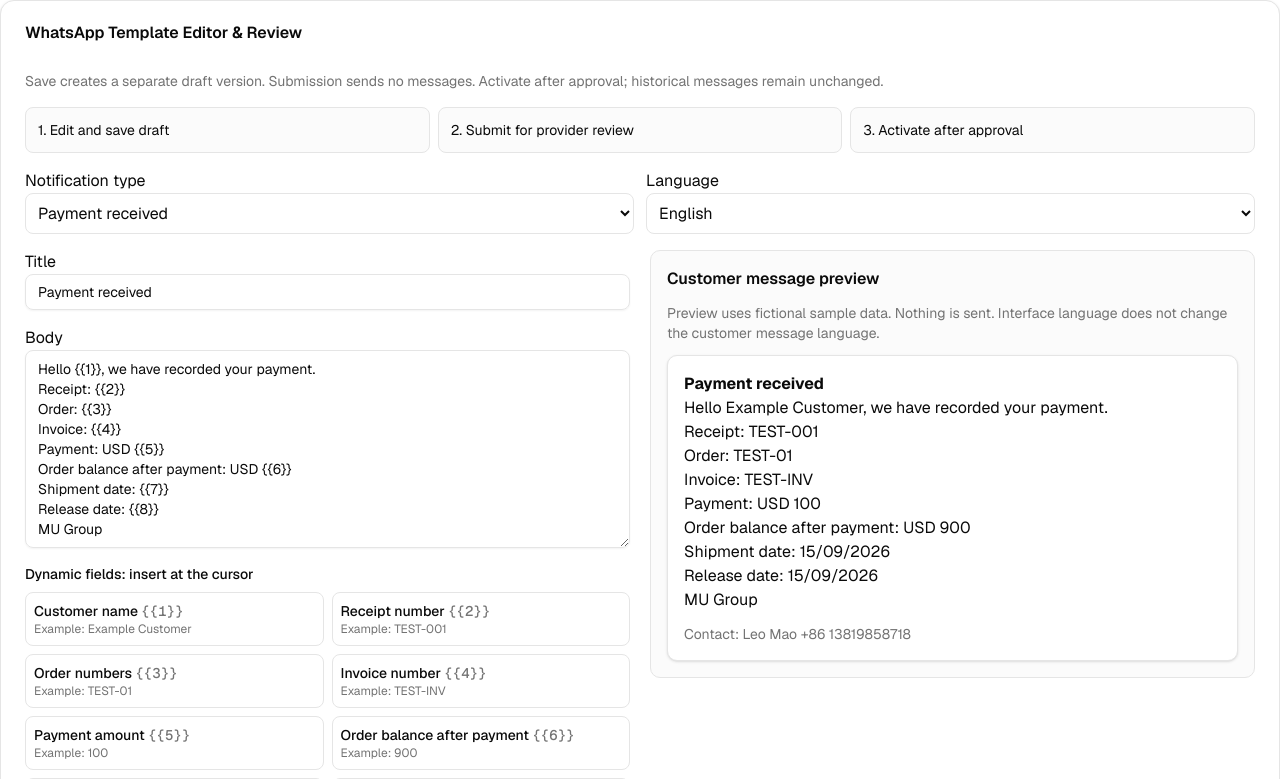
blocks a body missing required financial variables
Replace the text in the text box labelled "Body" with "No amount or balance". click: (328, 449)
box: x1=25 y1=350 x2=630 y2=548
(page scrolled)
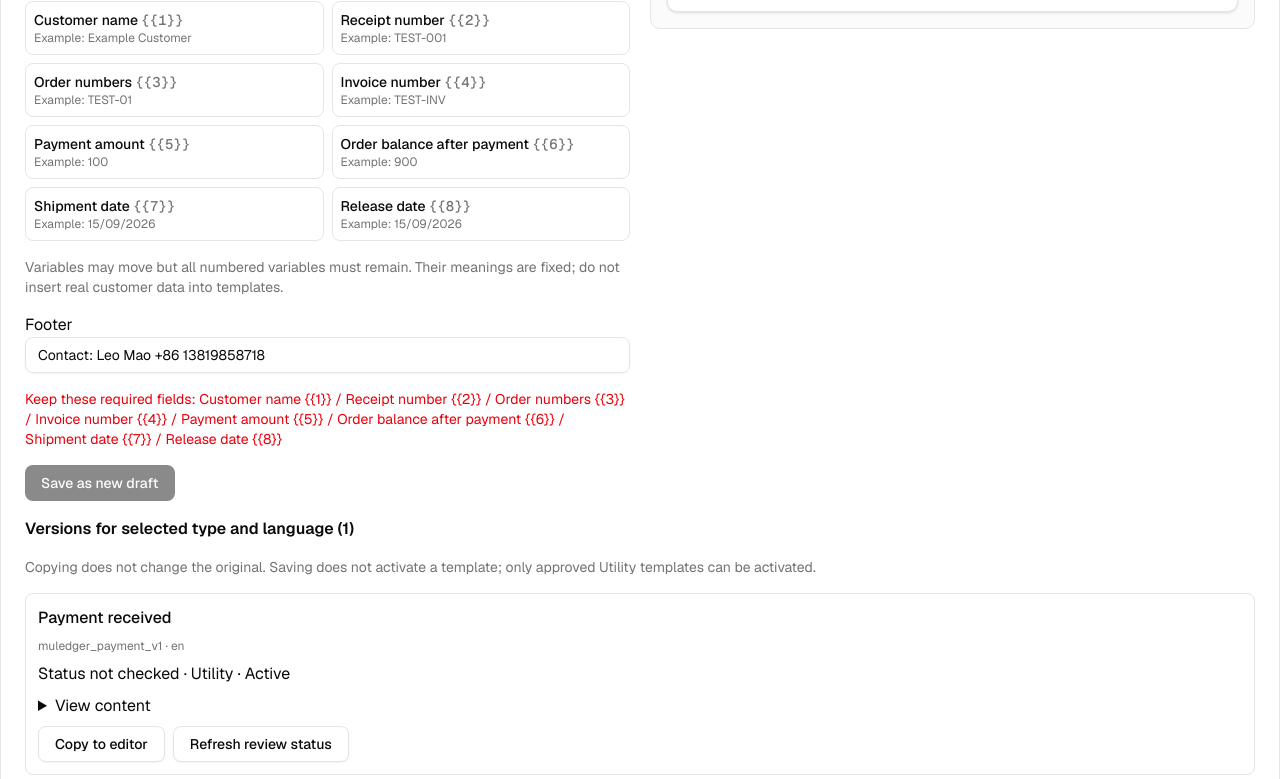
Expected: the button "Save as new draft" is disabled, x1=25 y1=465 x2=175 y2=501
